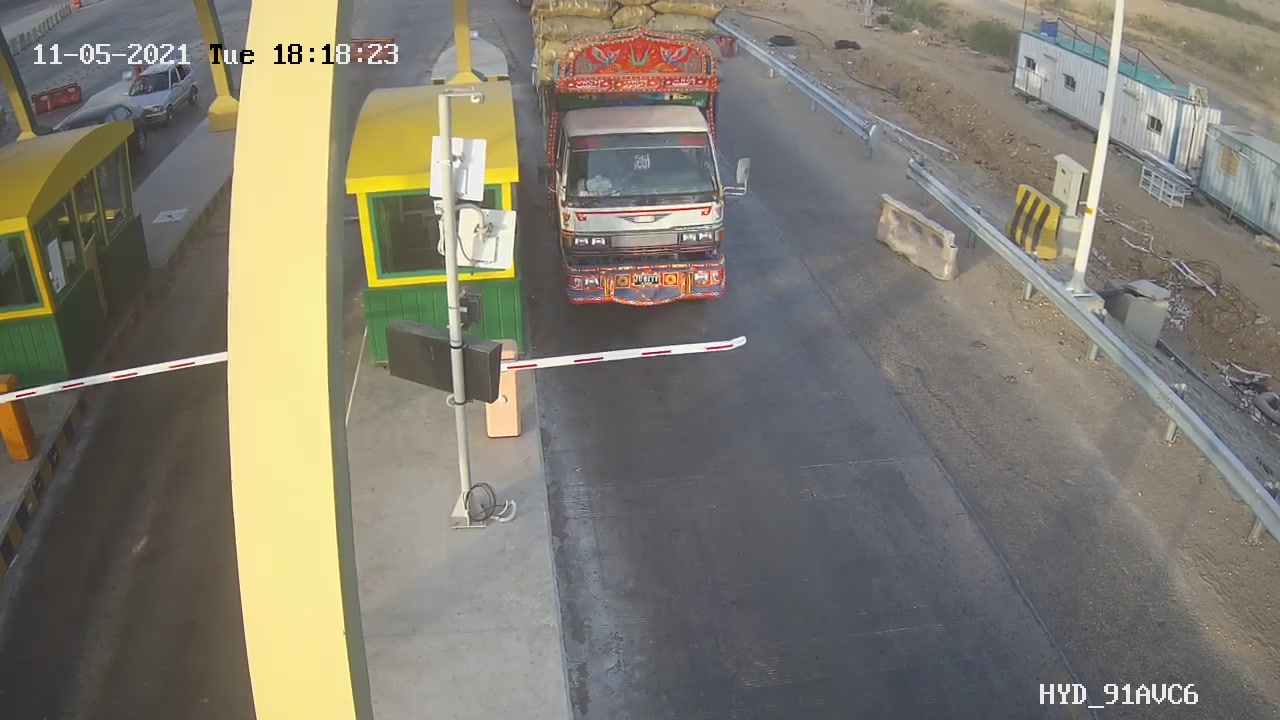F5: (529, 22, 758, 321)
